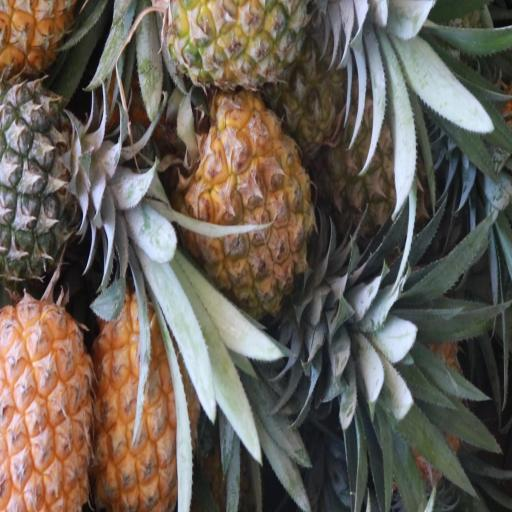------------------------------: (326, 88, 428, 253)
Pineapple - v8 v1: (188, 96, 314, 311), (94, 295, 200, 512), (0, 304, 93, 509), (156, 0, 313, 93)
